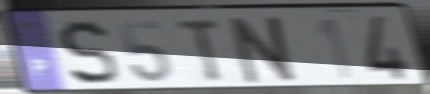1: (316, 17, 354, 80)
4: (363, 13, 410, 83)
5: (115, 19, 173, 84)
N: (228, 13, 302, 86)
S: (56, 18, 122, 88)
T: (174, 17, 227, 85)
